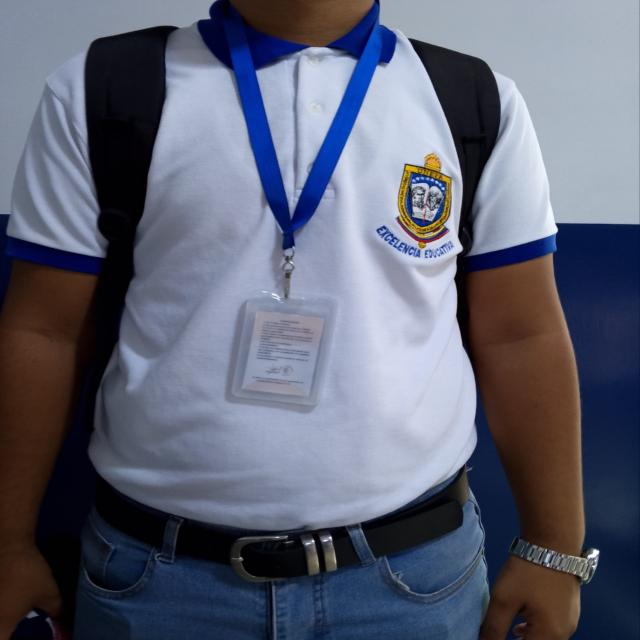carnet: (241, 311, 325, 397)
uniforme_superior: (4, 0, 556, 532)
